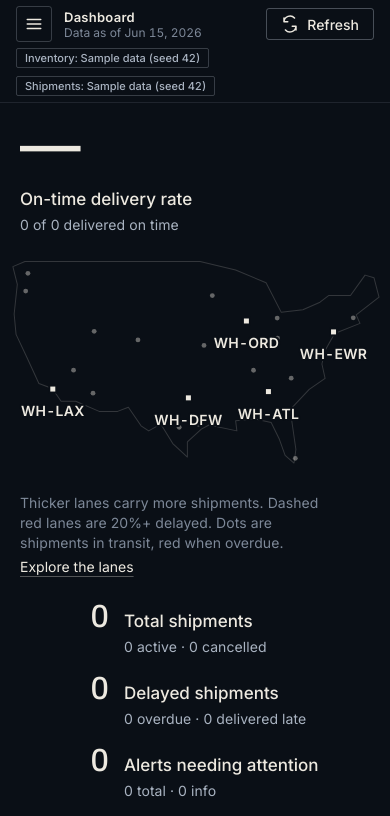
Test: App › toggles the mobile menu with aria-expanded, and Escape closes it
Click the button named "open navigation": (34, 24) [16,6,52,42]
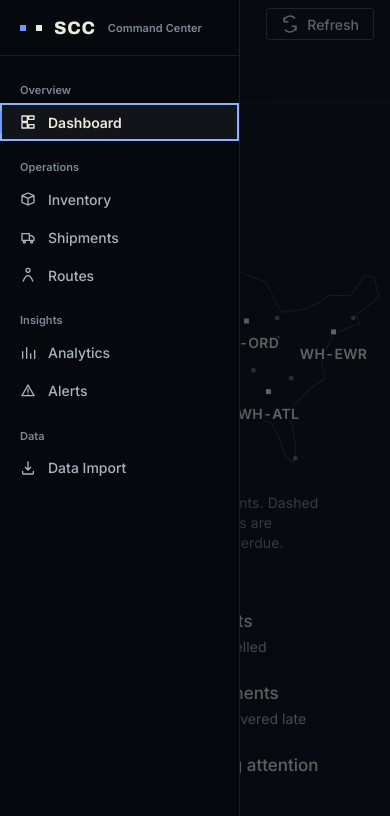
Expected: the button named "close navigation" is expanded, [16,6,52,42]
Press Escape
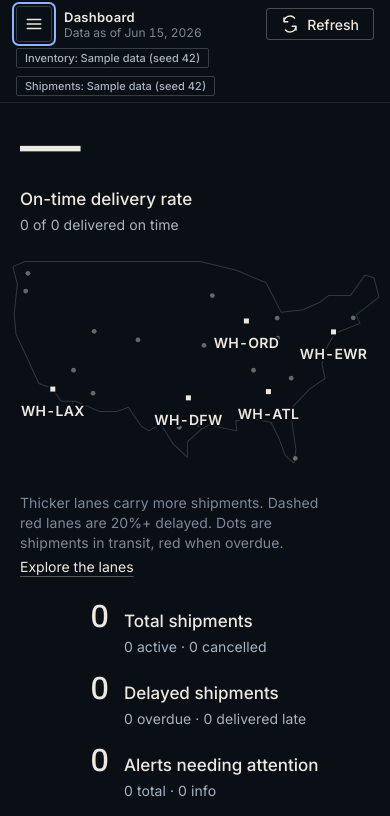
Expected: the button named "open navigation" is collapsed, [16,6,52,42]
